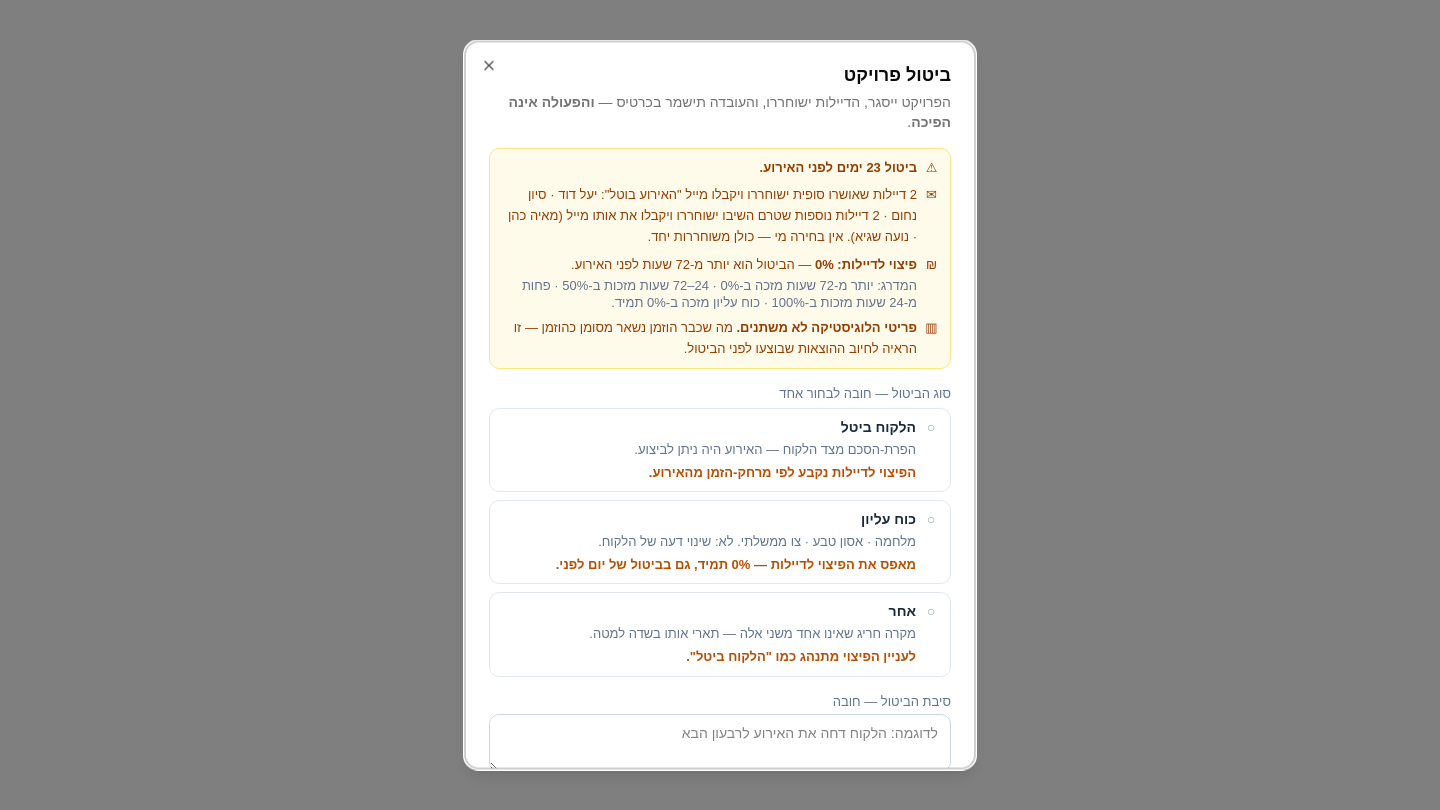
CancelProjectDialog — שלושת הסוגים והוולידציה › סיבה ריקה — הכפתור ההרסני מושבת והנוסח הנעול מוצג, בכל שלושת הסוגים
Click the radio button with test id "cancel-type-customer": (720, 450) [489,407,951,492]
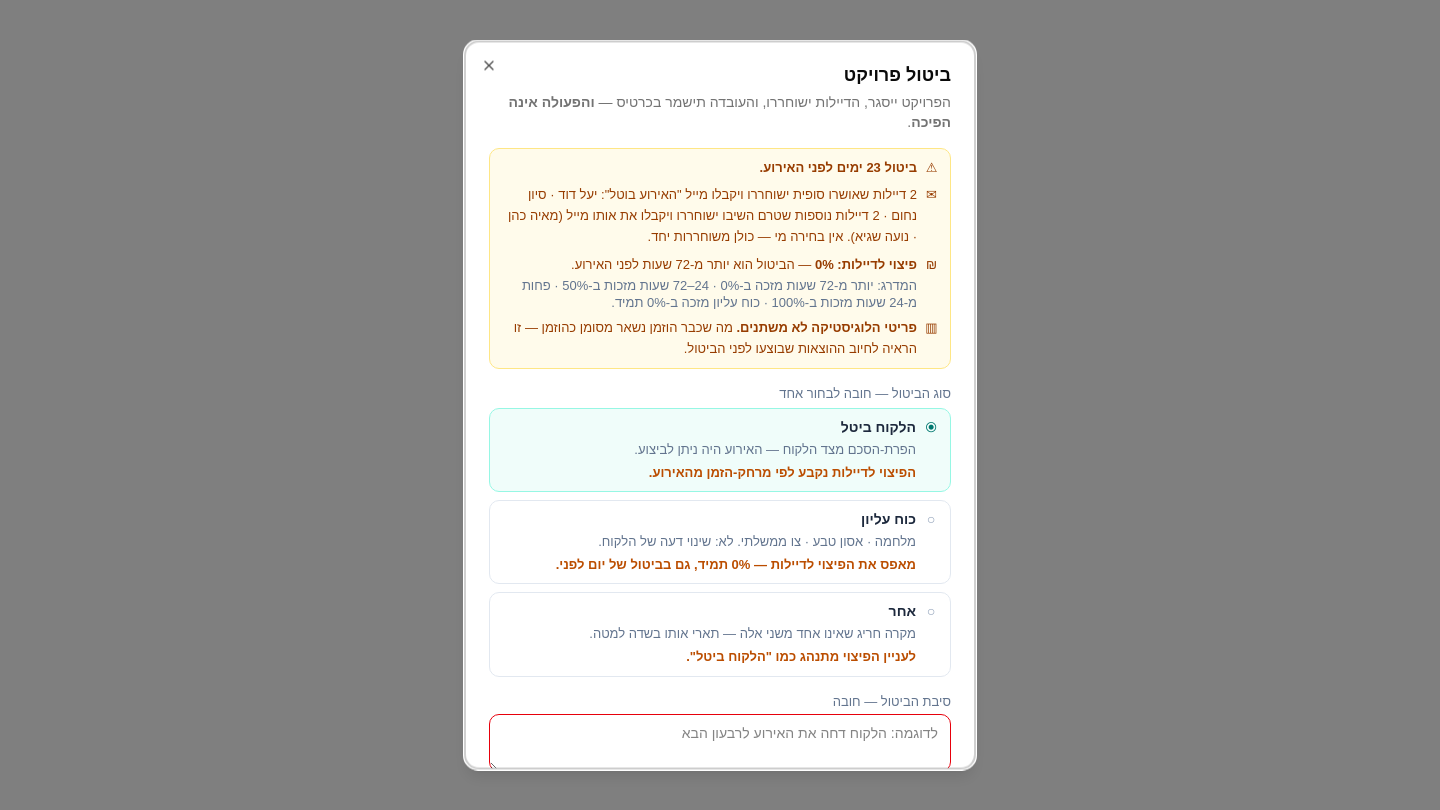
Click the radio button with test id "cancel-type-force_majeure": (720, 542) [489,500,951,584]
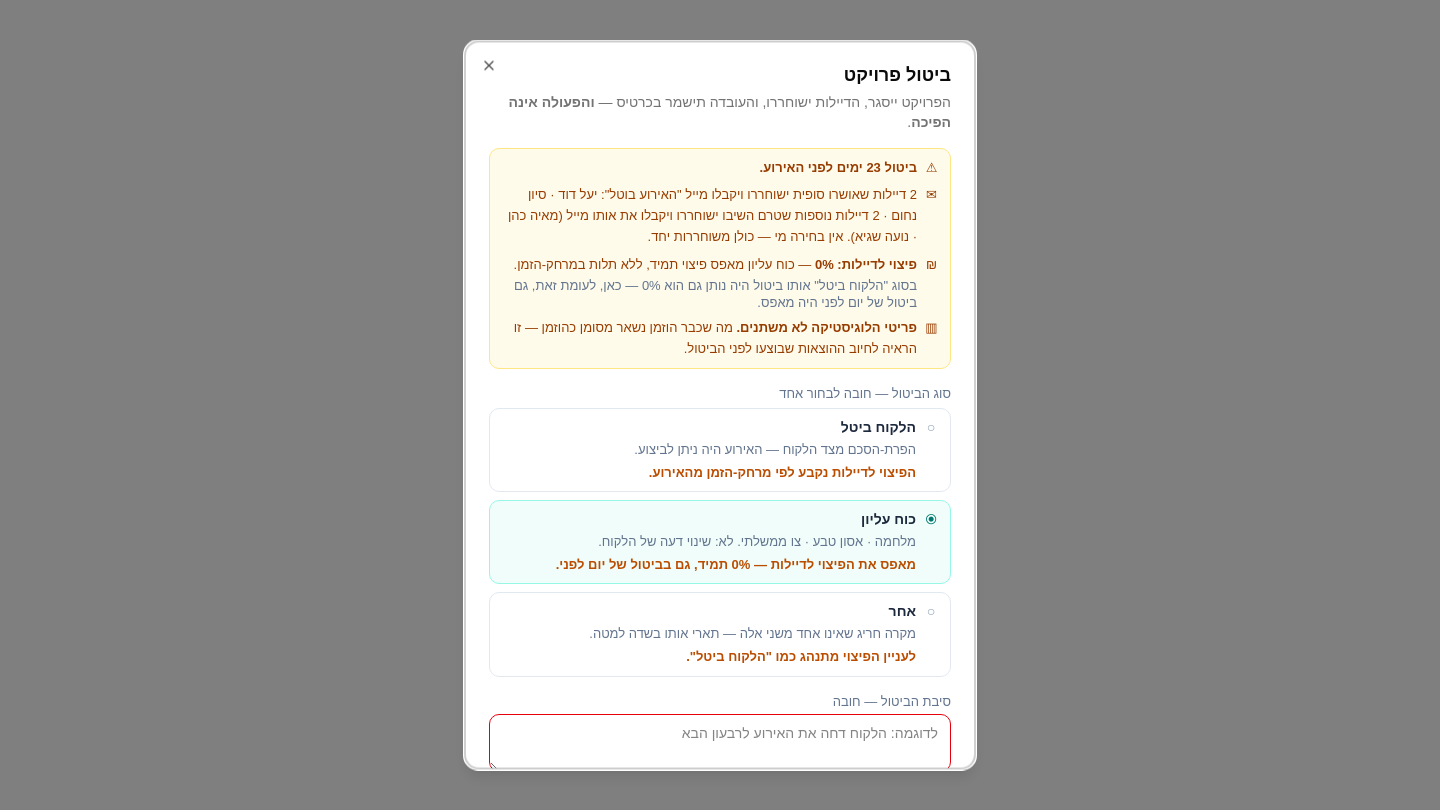
Click the radio button that starts with "אחר": (720, 634) [489,592,951,676]
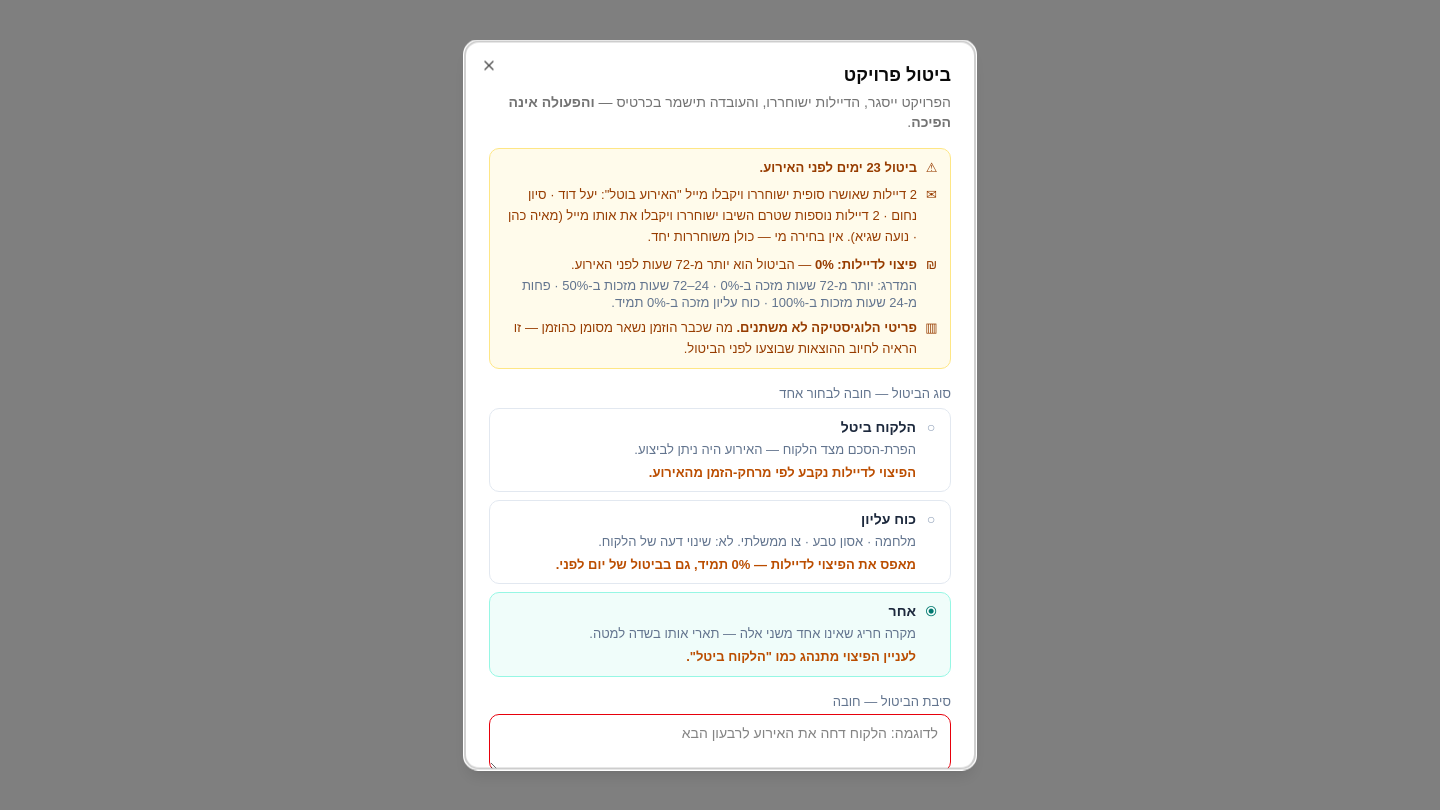
In the text box with test id "cancel-reason": (720, 742) [489,713,951,771], type "הלקוח דחה את האירוע לרבעון הבא"
(page scrolled)
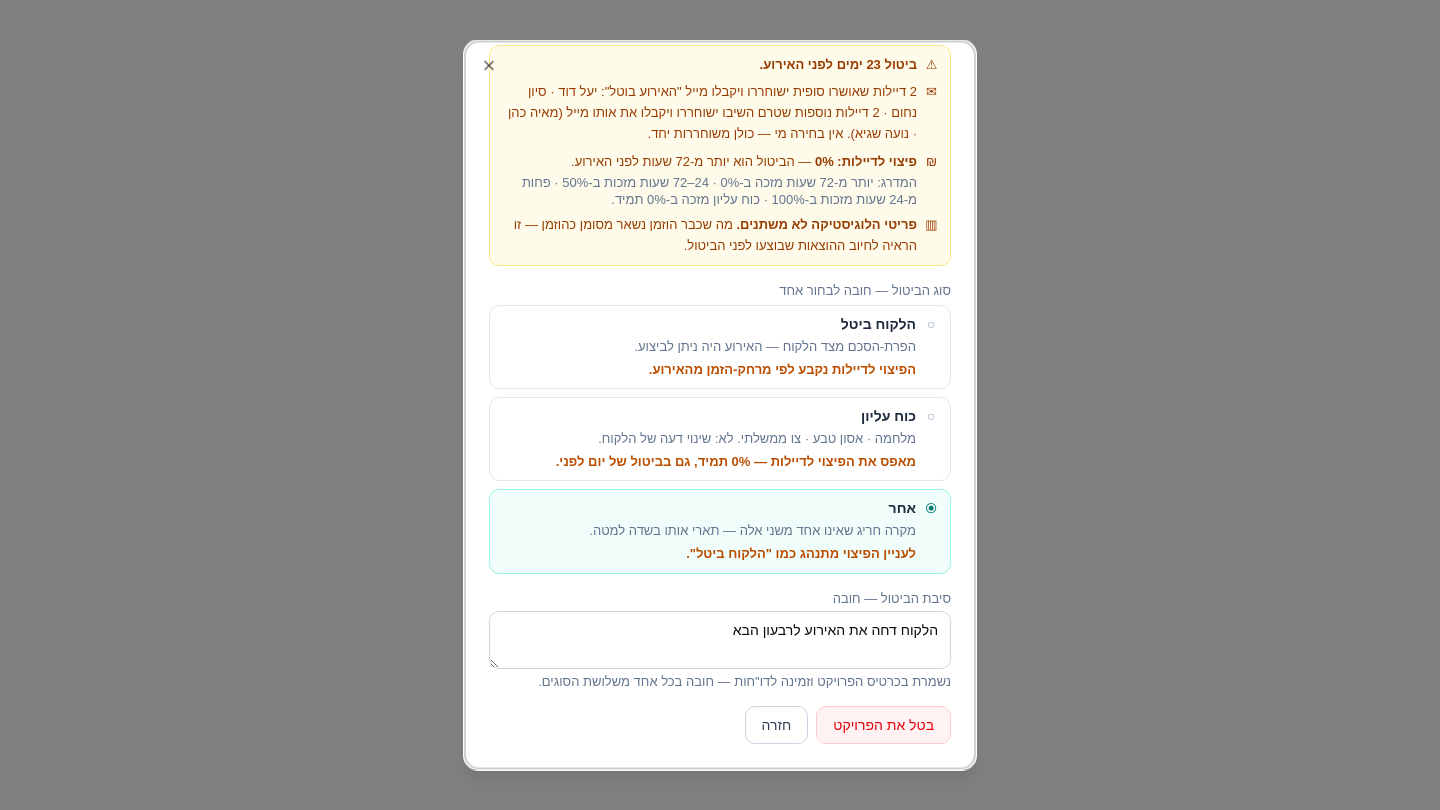
Expected: the button with test id "cancel-confirm" is enabled, [816,707,951,745]
